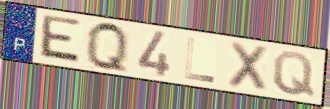4: (135, 28, 173, 80)
E: (36, 13, 82, 67)
L: (183, 35, 217, 84)
Q: (84, 19, 130, 76), (271, 50, 317, 100)
X: (225, 39, 272, 94)
